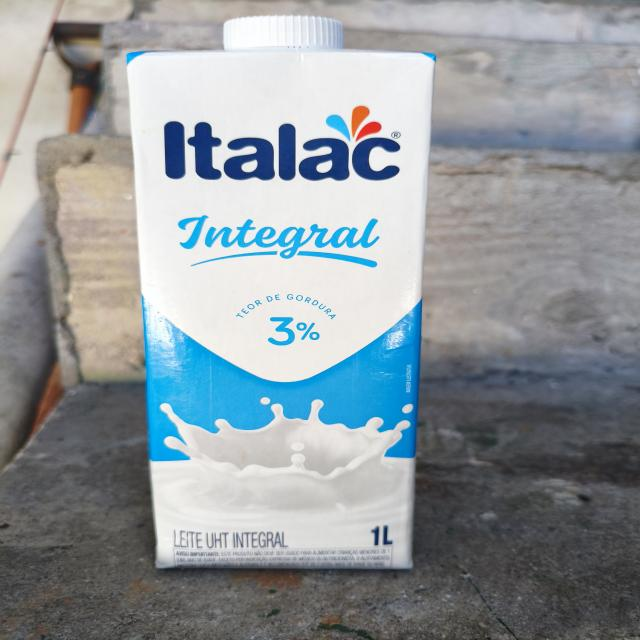Caixa de Leite: (116, 12, 440, 574)
